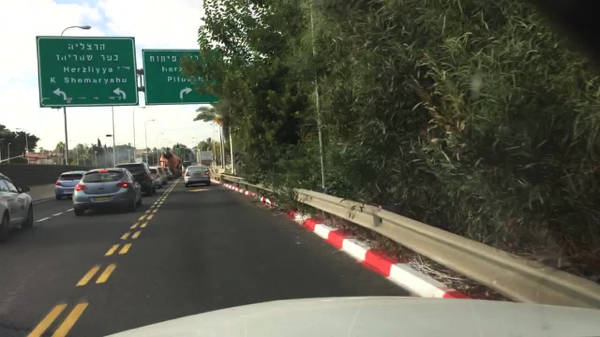car: (73, 170, 145, 214), (0, 169, 36, 243), (115, 162, 157, 194), (53, 169, 82, 200), (184, 165, 211, 189), (153, 166, 162, 189), (155, 167, 167, 183), (164, 167, 175, 181), (184, 160, 191, 167)
traffic light: (176, 144, 181, 152)
traffic sign: (36, 36, 139, 108), (142, 48, 221, 103)
truck: (159, 152, 182, 176)
